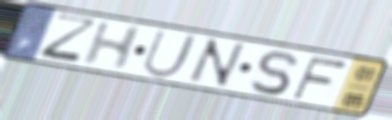F: (289, 54, 351, 101)
H: (79, 20, 147, 72)
N: (182, 37, 249, 90)
S: (247, 49, 300, 96)
U: (139, 28, 202, 80)
Z: (36, 12, 102, 67)
